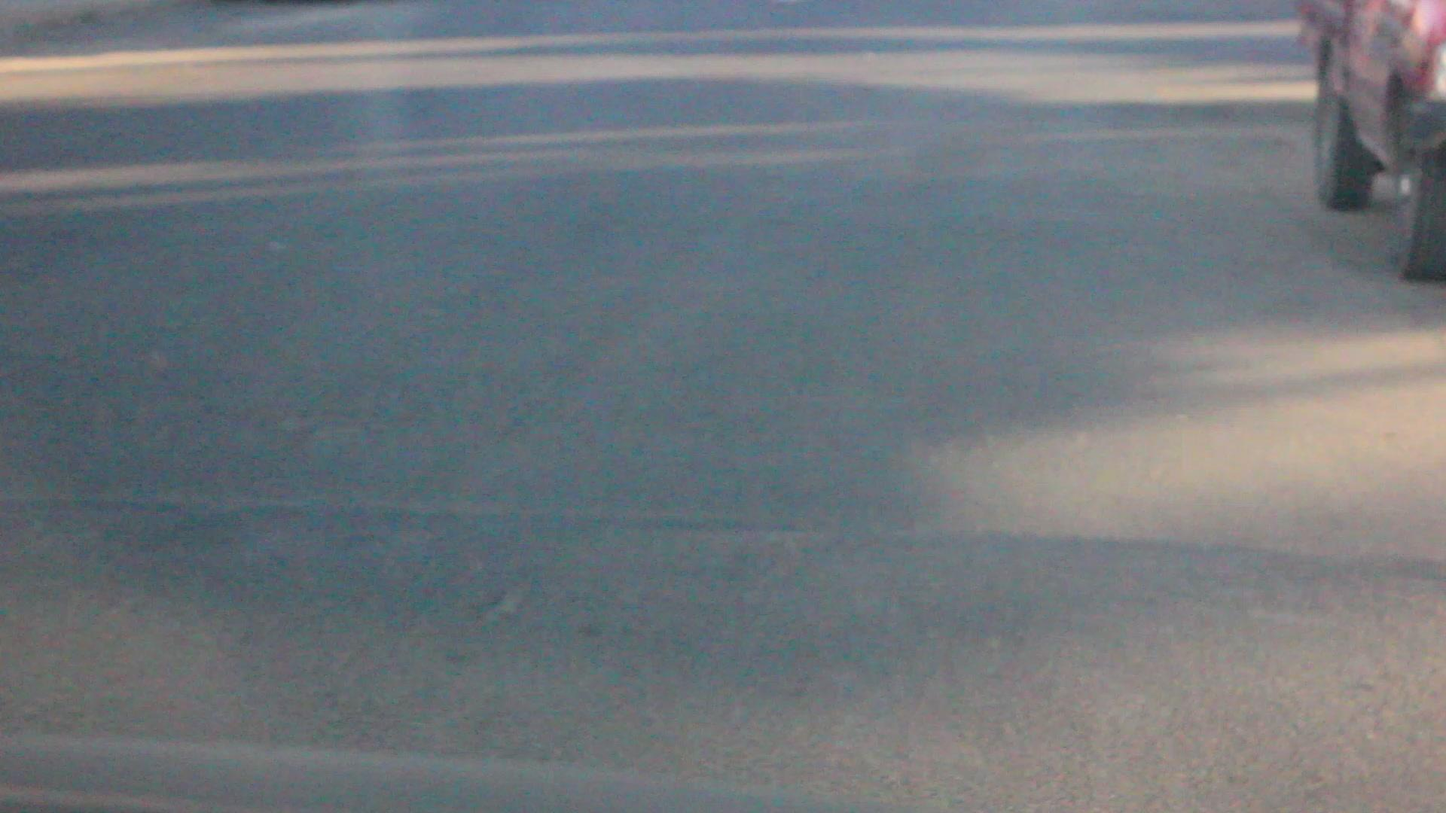Bump: (17, 491, 1446, 796)
